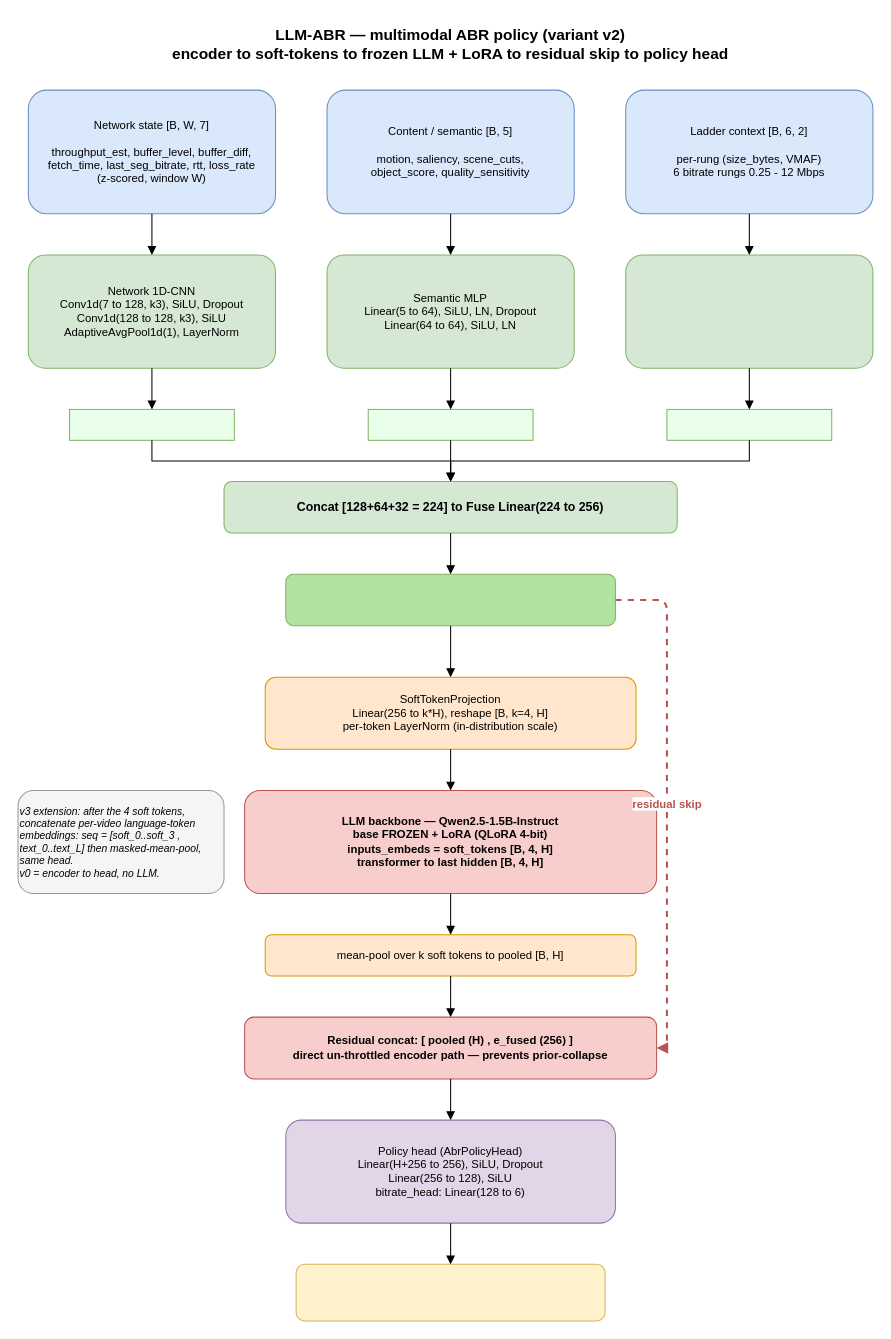
Image size: 891x1339. Some labels were removed from this diagram. Here are the shapes that lost their labels. From the top down, the centre of each, then its label:
At (749,311): "Ladder proj Linear(2 to 32), SiLU mean-pool over 6 rungs".
At (151,424): "net_emb [128]".
At (450,424): "sem_emb [64]".
At (749,424): "ladder_emb [32]".
At (450,599): "e_fused [B, 256] (fused multimodal state embedding)".
At (450,1292): "logits [B, 6] to argmax rung bitrate decision over the 6-rung ladder".
